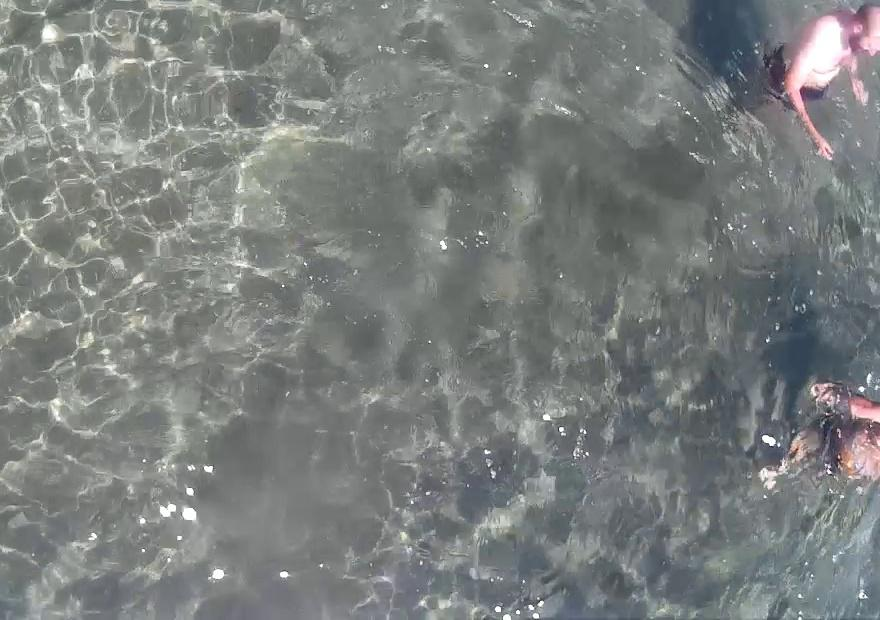human: (768, 0, 876, 168)
